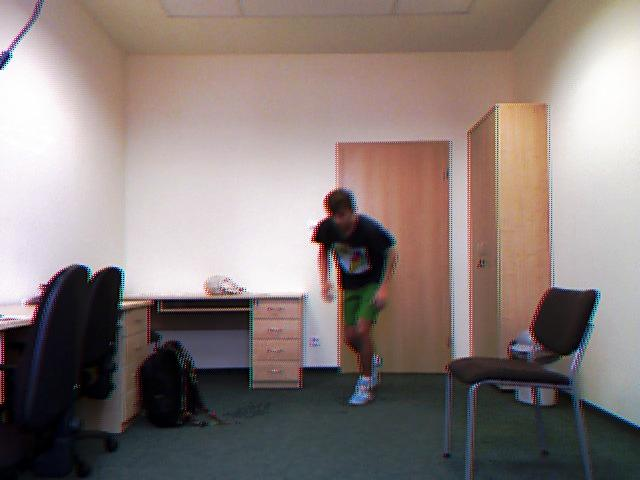near-fall: (298, 183, 414, 409)
